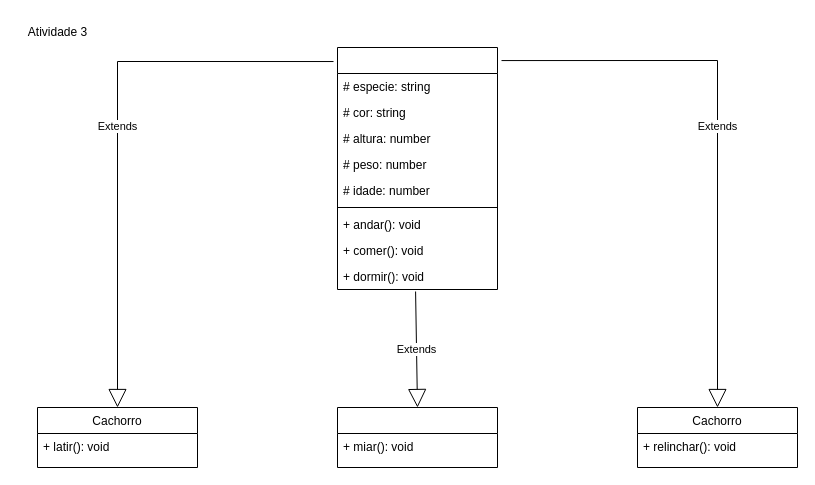
Some shapes in this 815 by 485 pixel diagram are drawn without their labels. The shapes that lost their labels are listed below. From the top down, each one's box as (x1, y1, x2, y2) in pixels, then its label:
(336, 46, 498, 290): abstract Animal
(336, 406, 498, 468): Gato
